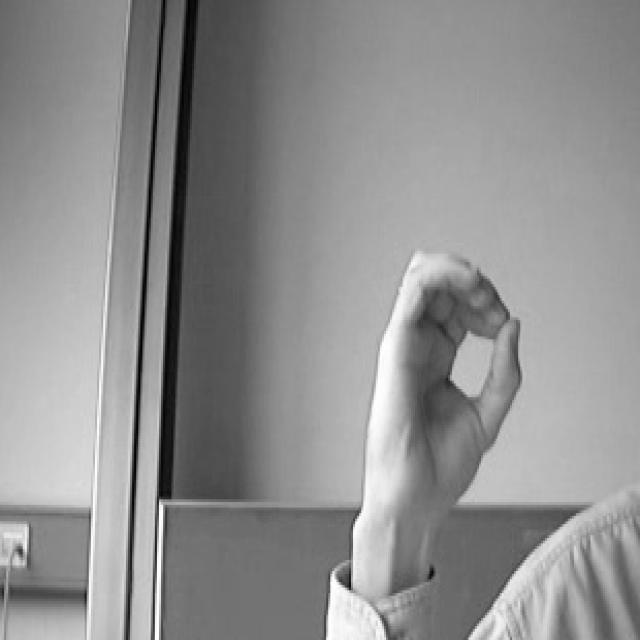O: (347, 219, 531, 549)
